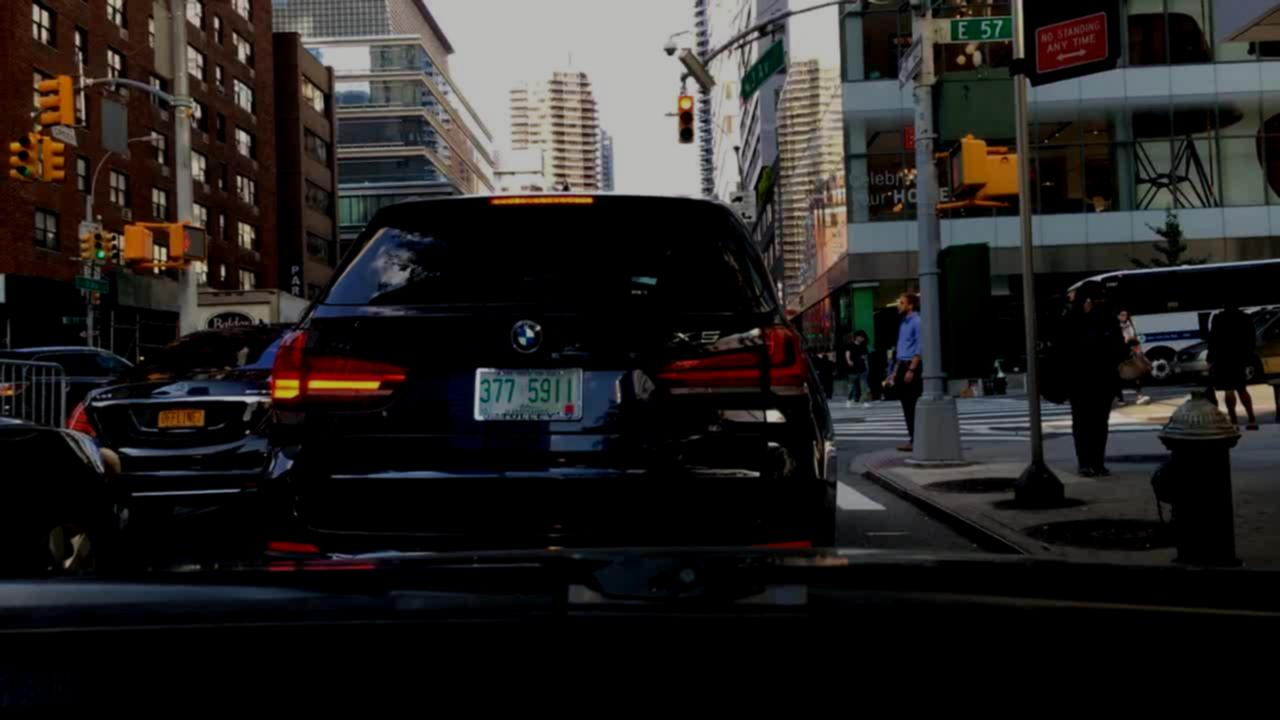bmw: (508, 318, 544, 357)
